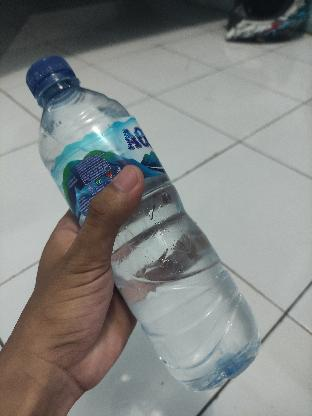Plastic Bottle: (22, 52, 264, 392)
